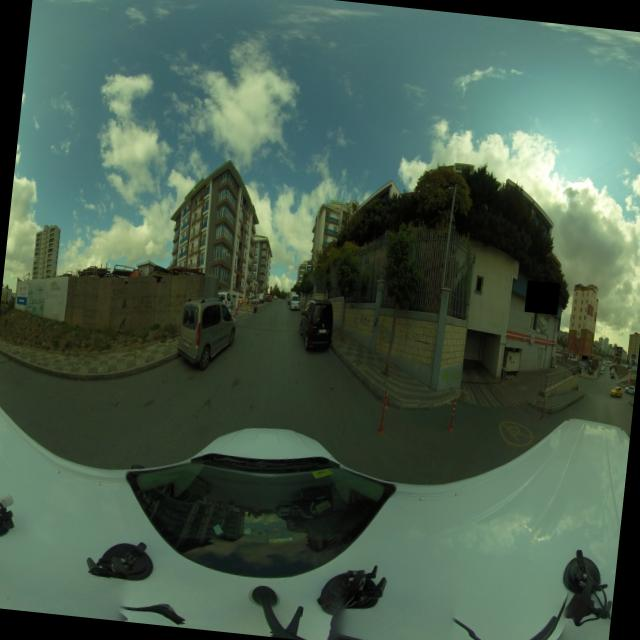SignStore: (525, 280, 557, 315), (581, 355, 587, 359)
